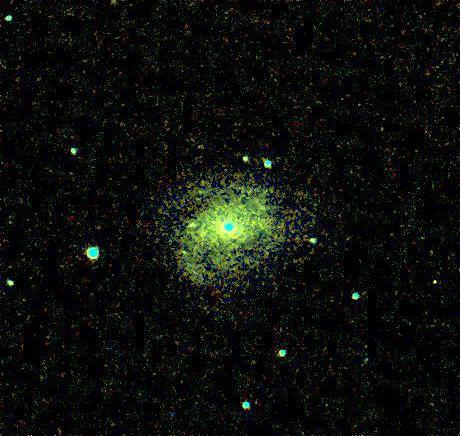star: (420, 267, 450, 297)
